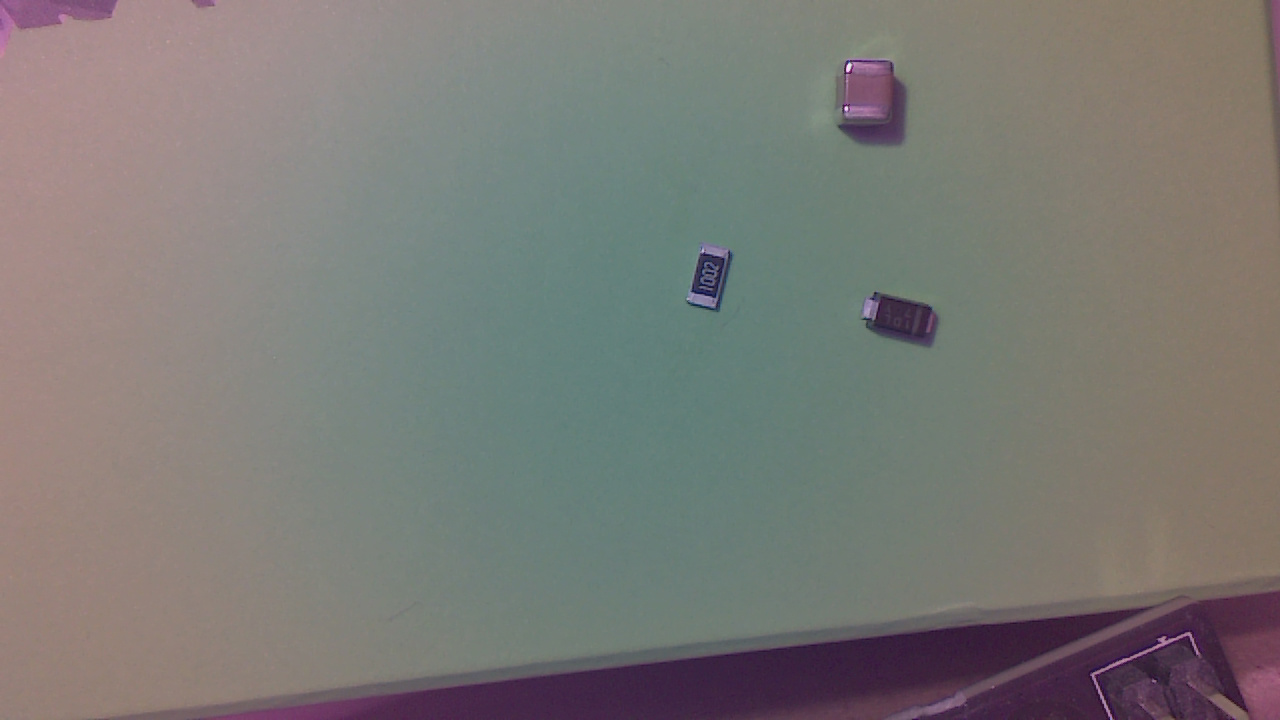Condensator: (839, 64, 901, 131)
Diode: (864, 295, 943, 348)
Resistor: (690, 251, 737, 315)
